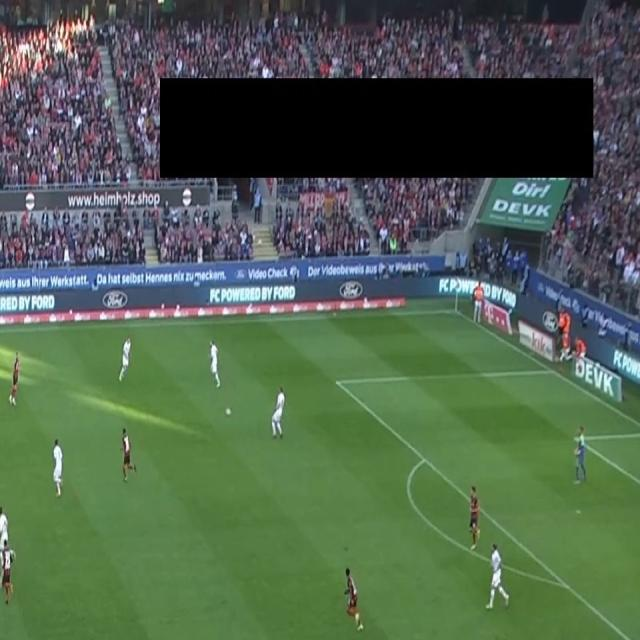ball: (226, 406, 232, 417)
